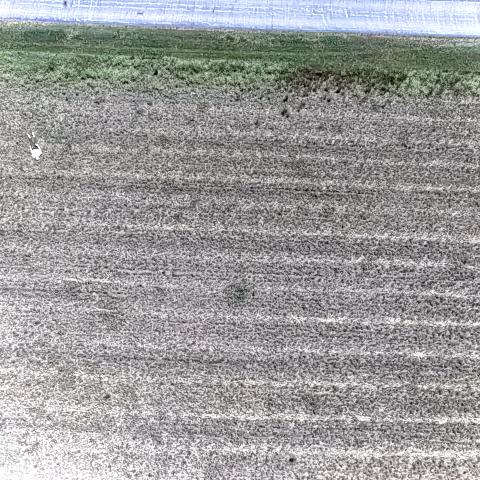person: (23, 127, 42, 163)
